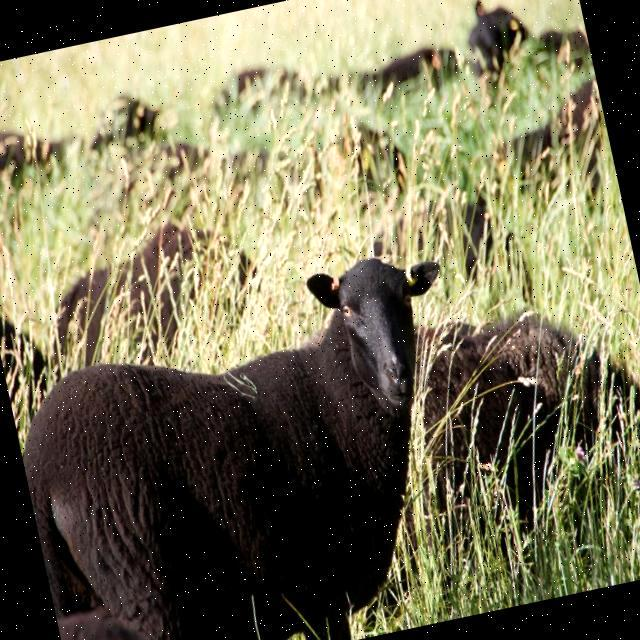sheep: (23, 254, 434, 640), (408, 309, 640, 563), (53, 221, 195, 373), (0, 92, 165, 190)
